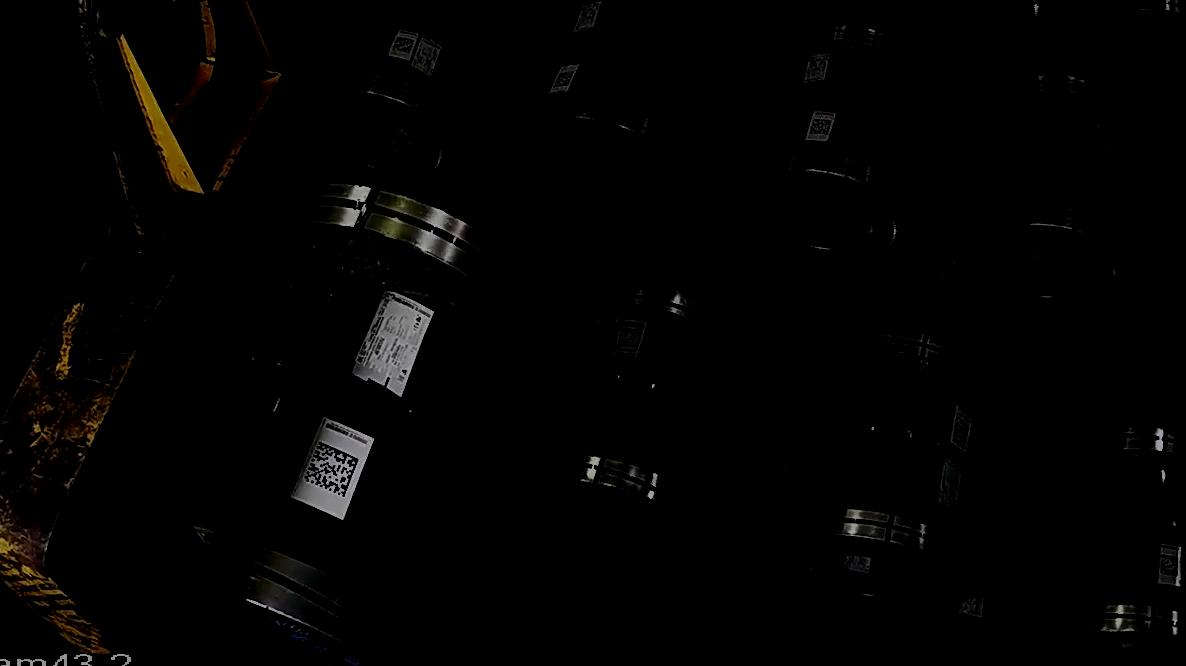data matrix: (301, 438, 363, 503), (617, 325, 645, 352), (953, 414, 974, 446), (1159, 553, 1183, 579), (390, 34, 417, 56), (809, 118, 834, 138), (553, 70, 577, 90)
